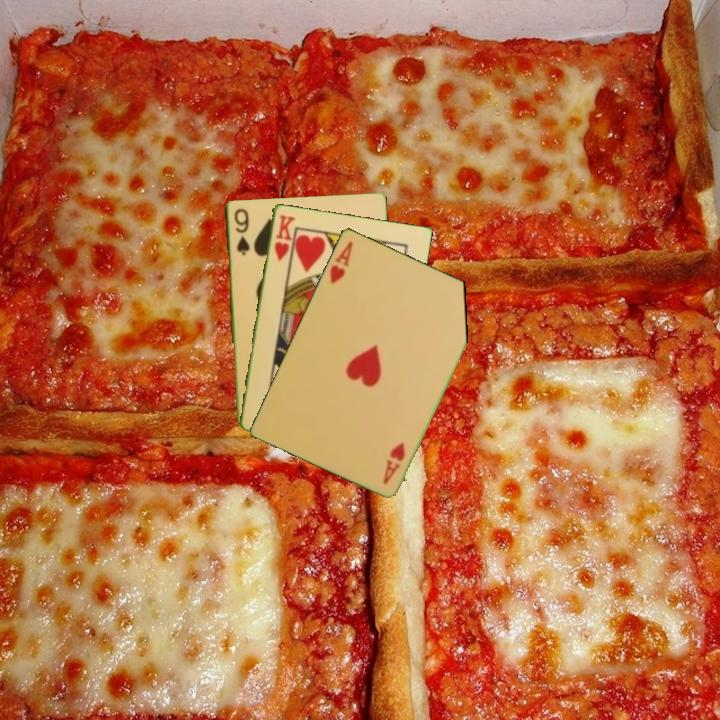9s: (231, 205, 252, 258)
Ah: (326, 237, 356, 287), (379, 438, 408, 487)
Kh: (270, 211, 297, 263)
